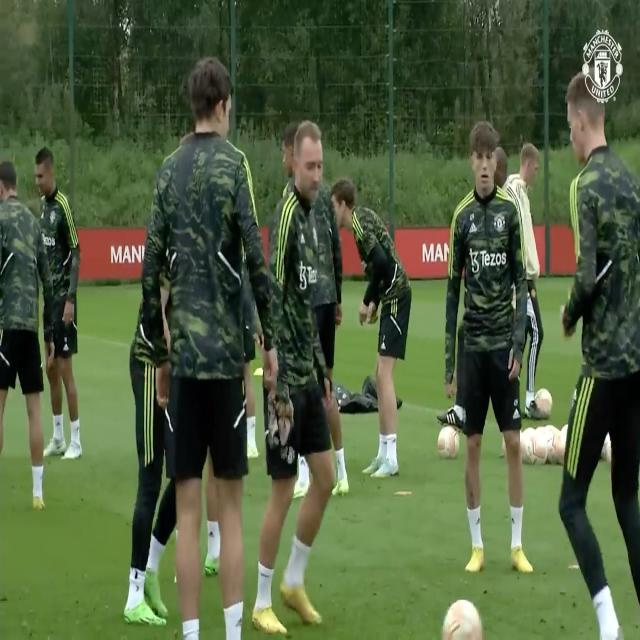Adidas: (512, 407, 522, 423), (469, 221, 478, 235)
